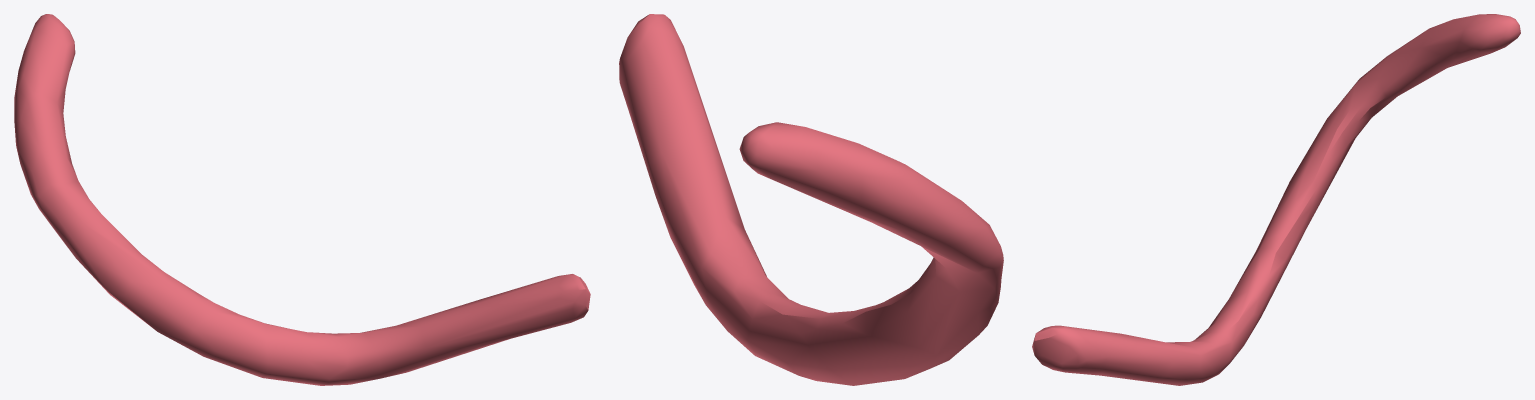
The model's file is fma15400_fj3595.glb.
The picture shows the model from 3 angles, left to right: view 1: azimuth 30°, elevation 25°; view 2: azimuth 150°, elevation 25°; view 3: azimuth 270°, elevation 25°; orthographic projection. The views are drawn at different scales.
Visible parts, largest first — view 1: FMA15400_FJ3595; view 2: FMA15400_FJ3595; view 3: FMA15400_FJ3595.
Part boxes in pixels (x1=…): FMA15400_FJ3595: x1=14, y1=14, x2=590, y2=385; FMA15400_FJ3595: x1=619, y1=14, x2=1003, y2=385; FMA15400_FJ3595: x1=1032, y1=14, x2=1520, y2=385.
Size of the model in its own units: 0.0239 by 0.0171 by 0.0261.
